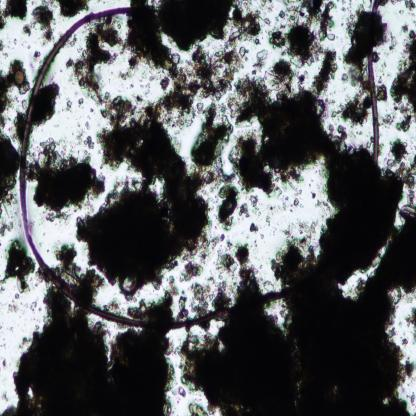Background material: (175, 244, 416, 416), (75, 90, 210, 300), (230, 54, 376, 242), (1, 294, 181, 416), (151, 43, 245, 127), (128, 0, 230, 70), (340, 10, 389, 127), (29, 143, 107, 211), (66, 20, 131, 100), (270, 2, 344, 67), (186, 105, 237, 184), (0, 61, 20, 217), (54, 240, 105, 301), (267, 233, 324, 287), (175, 262, 229, 313), (389, 29, 416, 124), (376, 164, 404, 239), (0, 238, 34, 293), (233, 244, 266, 299), (384, 137, 416, 191), (228, 4, 270, 42), (312, 43, 341, 94), (26, 5, 56, 45), (34, 83, 60, 127), (214, 185, 241, 225), (374, 12, 396, 52), (284, 222, 320, 243), (0, 0, 28, 25), (214, 248, 238, 275), (178, 260, 206, 280), (57, 0, 89, 16), (75, 123, 94, 149), (404, 306, 416, 347), (392, 112, 415, 132), (278, 193, 303, 211), (40, 211, 70, 224), (0, 218, 15, 238), (247, 193, 260, 214), (247, 218, 260, 235), (238, 202, 250, 220), (62, 98, 73, 114), (376, 86, 387, 100), (403, 0, 416, 11), (32, 46, 41, 61), (1, 353, 7, 375), (400, 23, 410, 35), (0, 38, 5, 53)
Diatom: (13, 68, 25, 85)
Microfibre: (21, 0, 382, 332)
